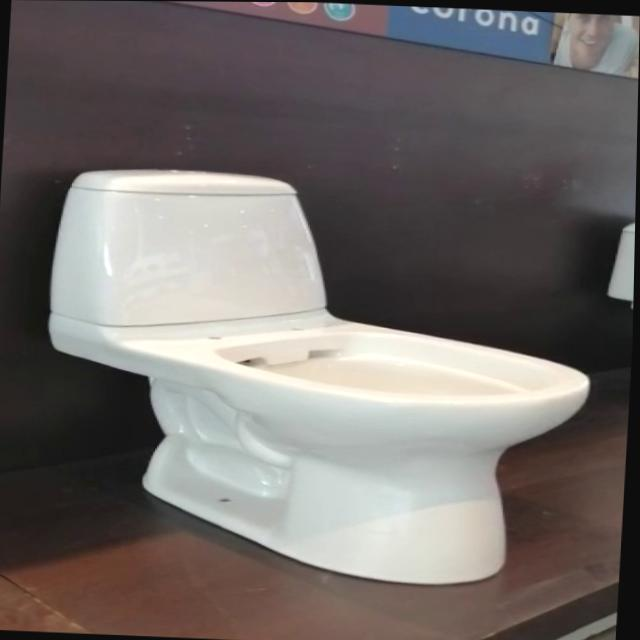toilet: (34, 161, 602, 590)
